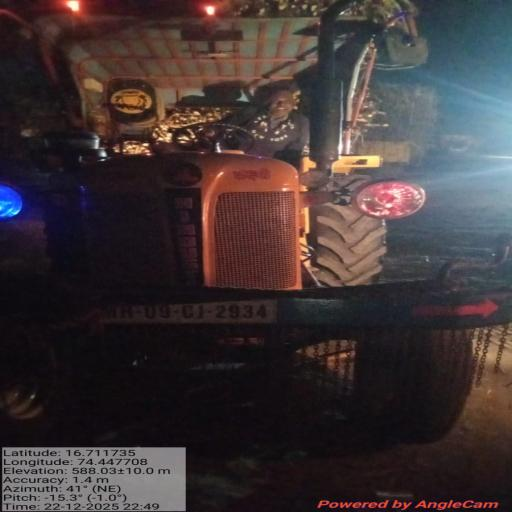number_plate: (87, 296, 290, 330)
